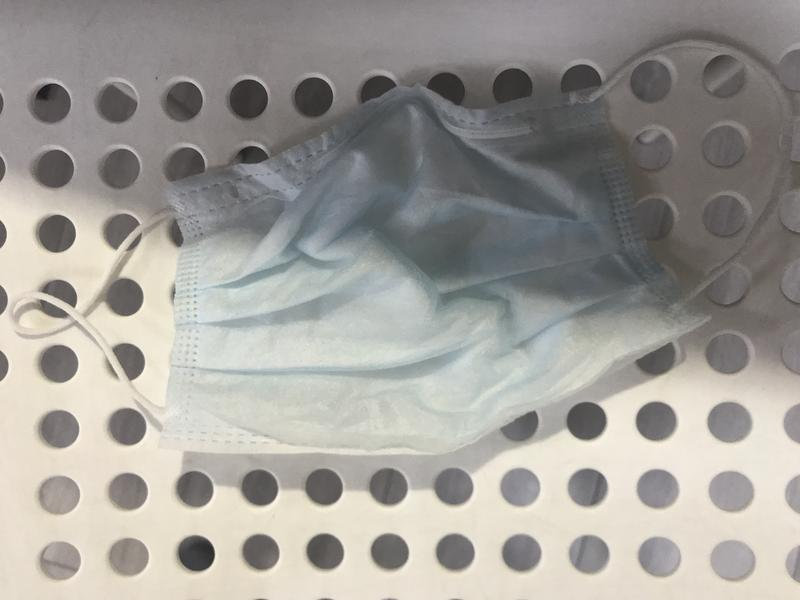medical_mask: (7, 37, 793, 442)
